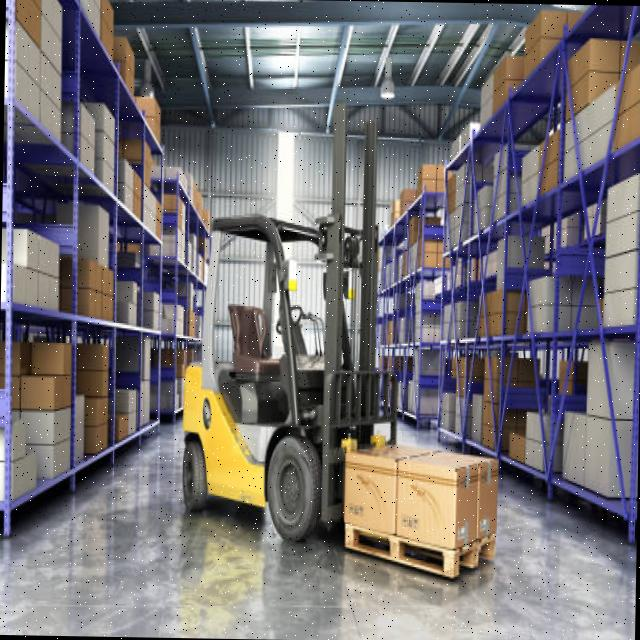Wooden-Pallets: (343, 525, 496, 585)
